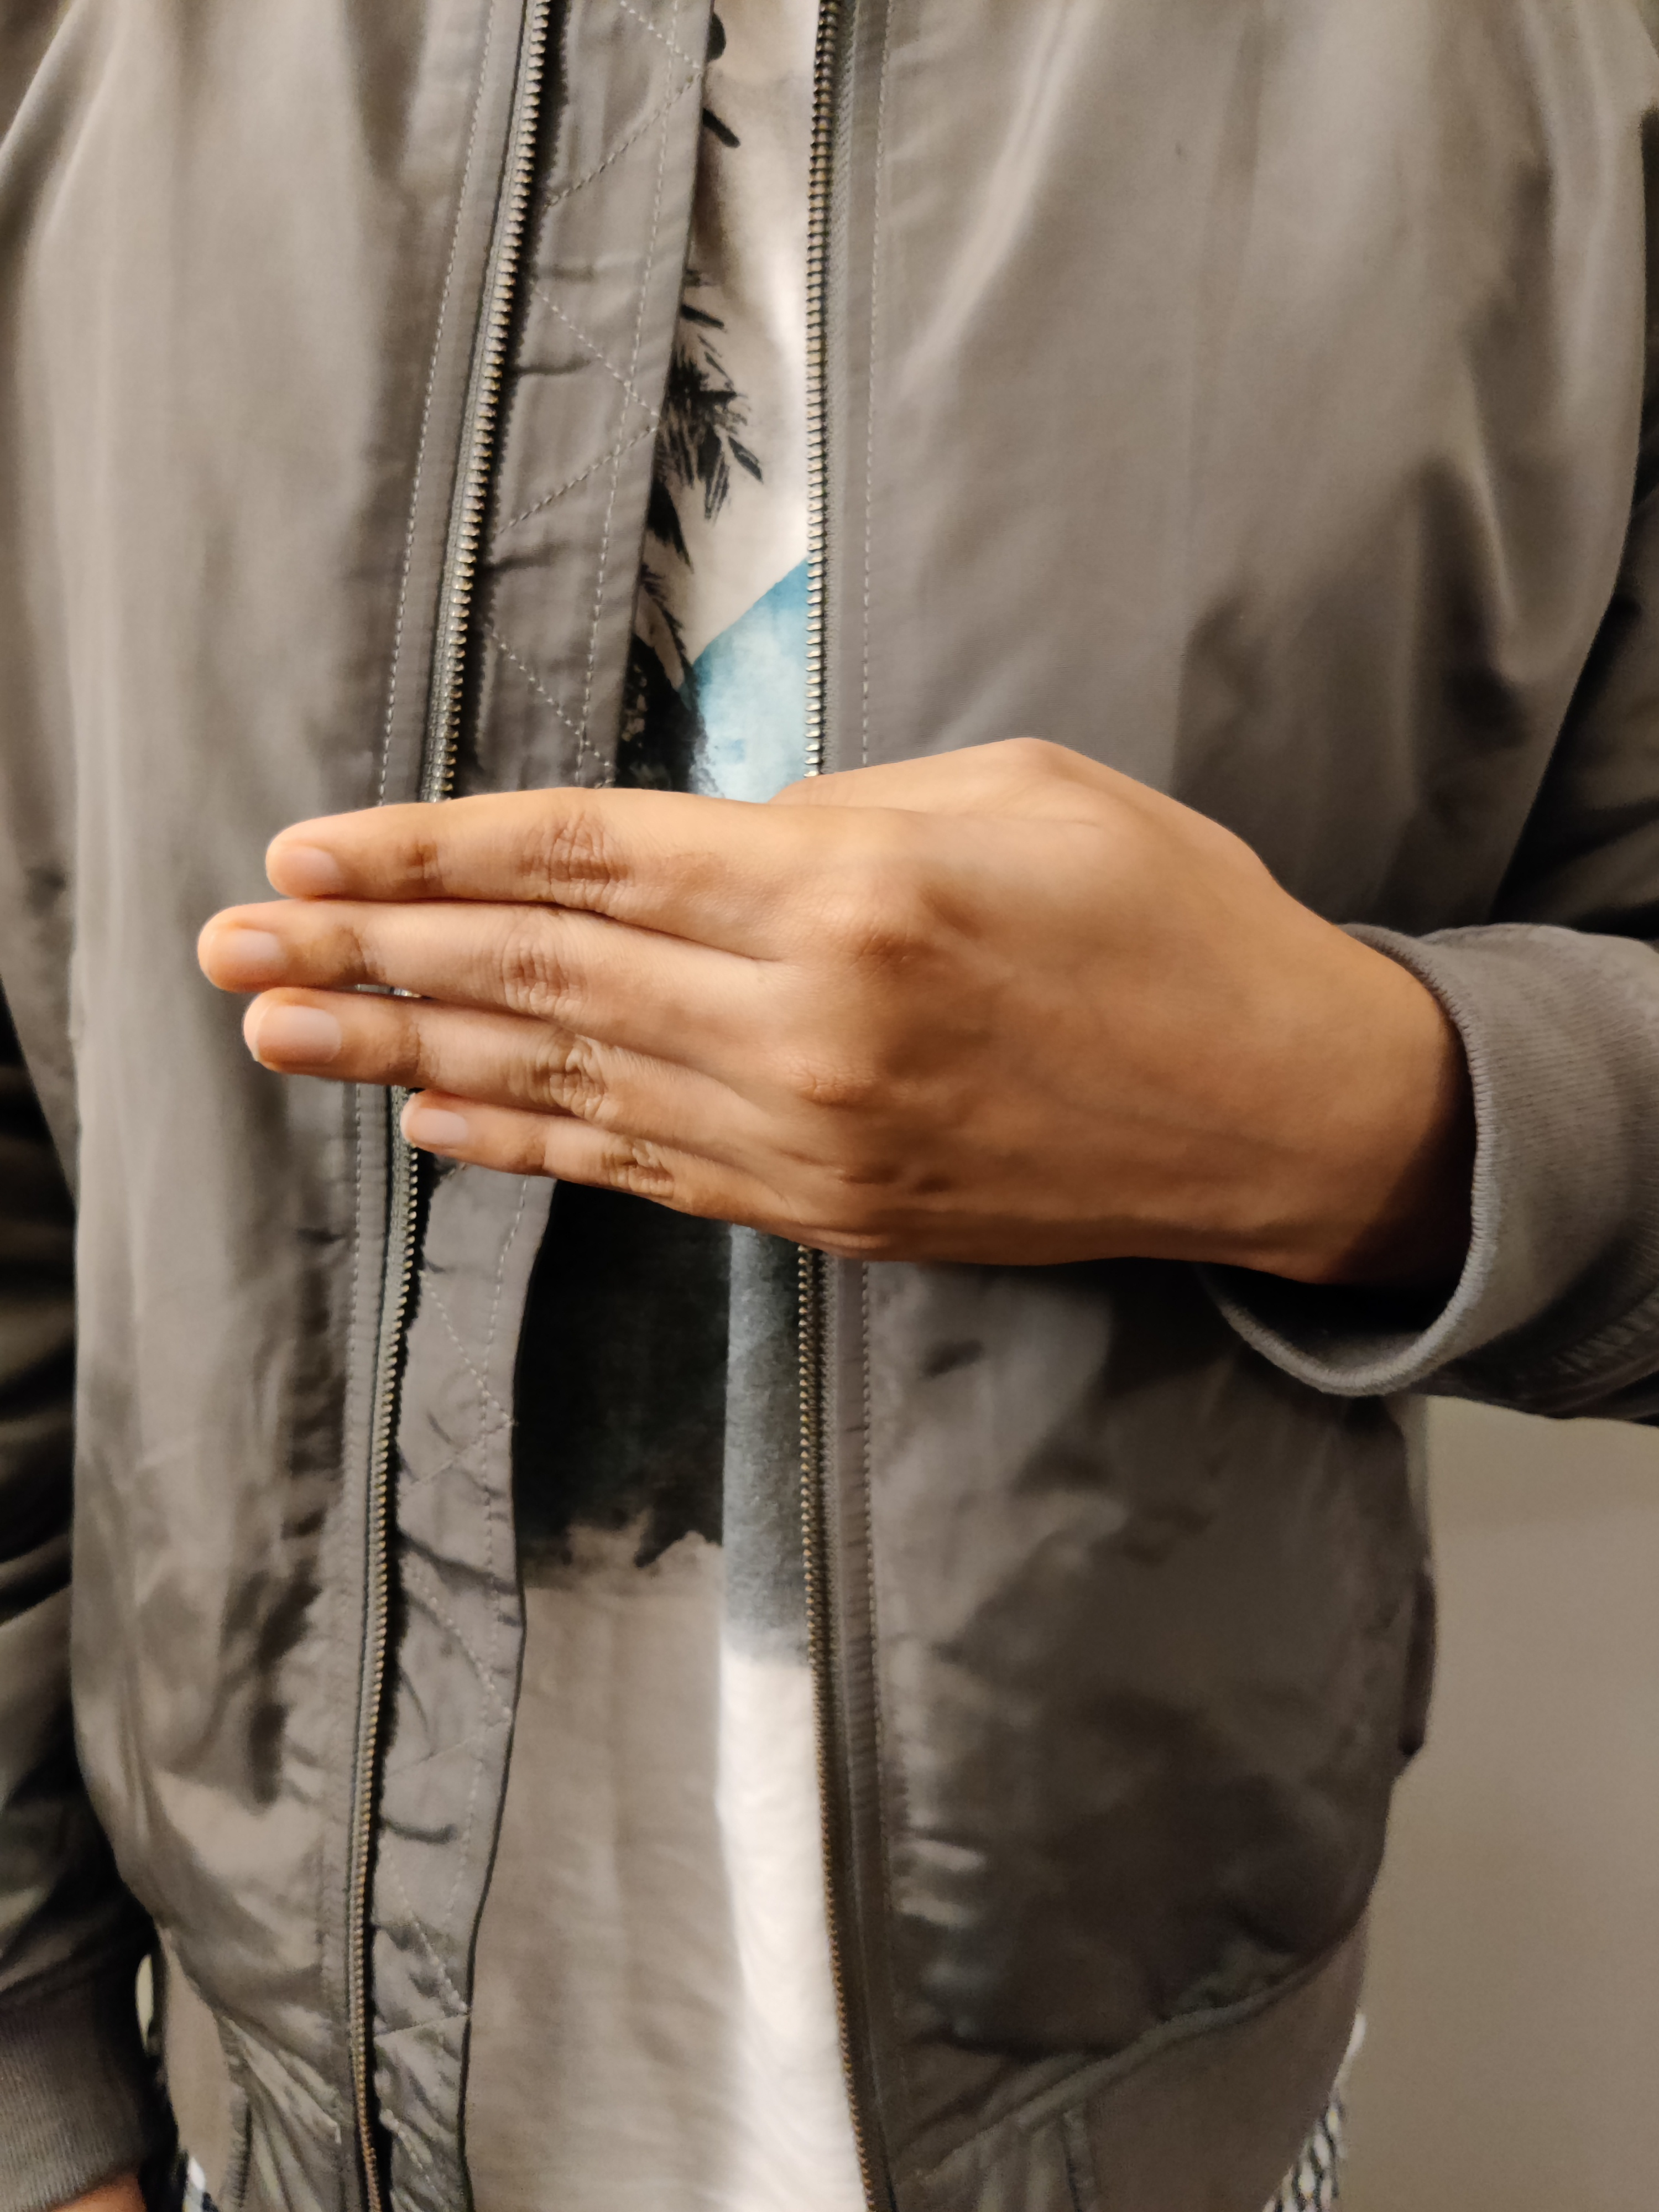right: (141, 604, 1629, 1561)
